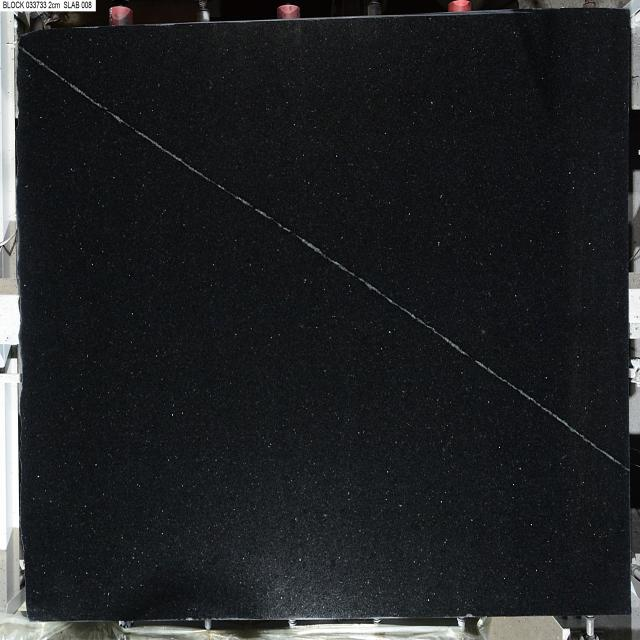chapa: (18, 9, 630, 619)
